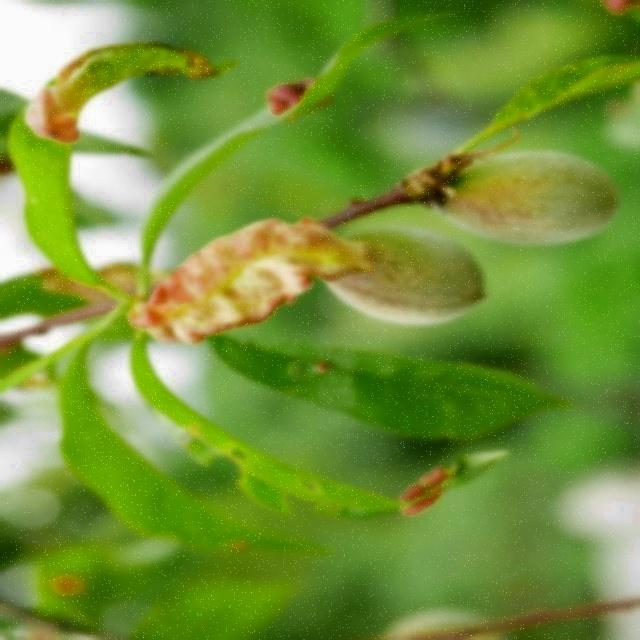leaf_curl: (108, 126, 387, 352)
